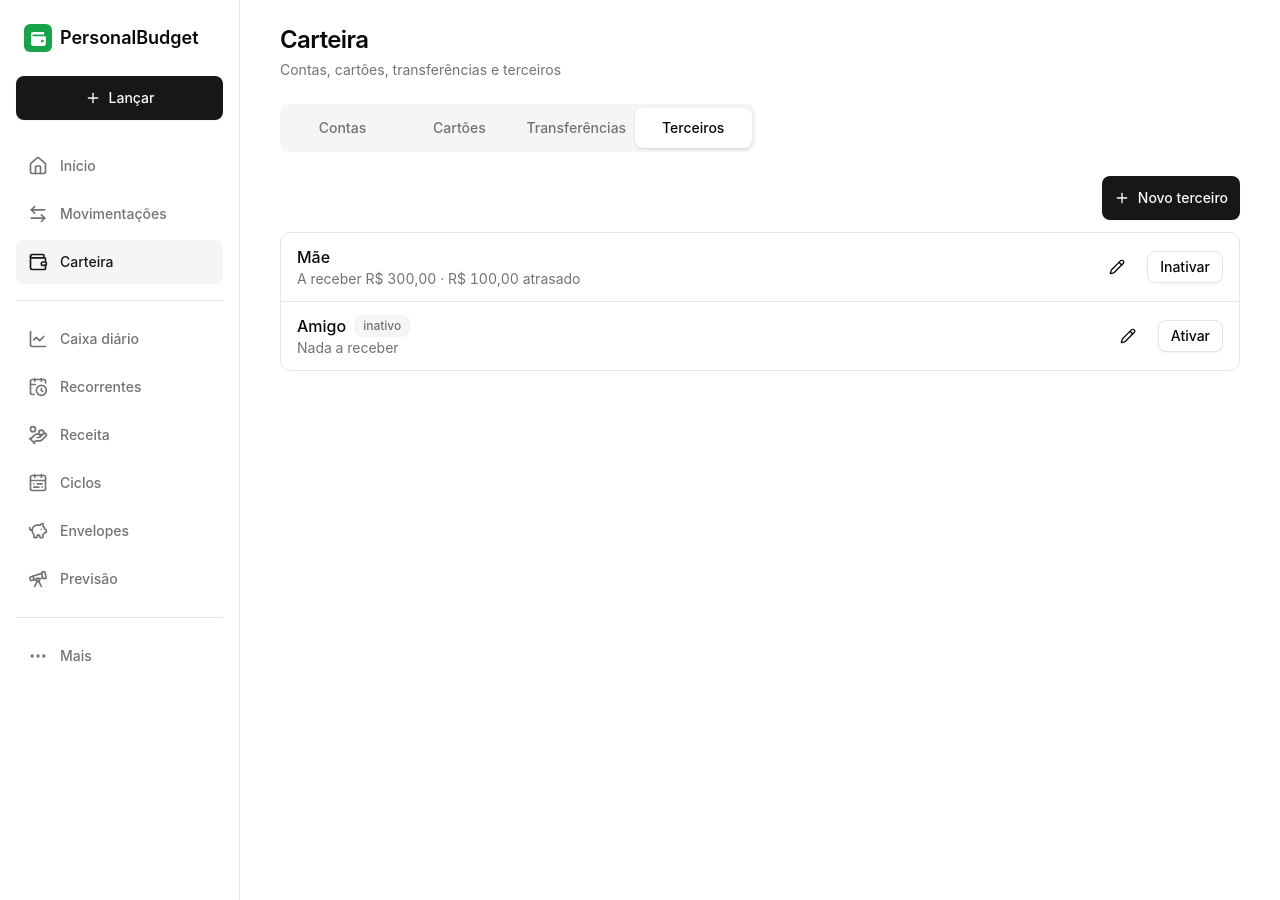
Test: Terceiros › should show the message of the back when it refuses to inactivate
What coordinates should you click on to do the following:
click the button with aria-label "Inativar Mãe"
I would click on:
 (1185, 267)
Its box is x1=1147 y1=251 x2=1223 y2=283.
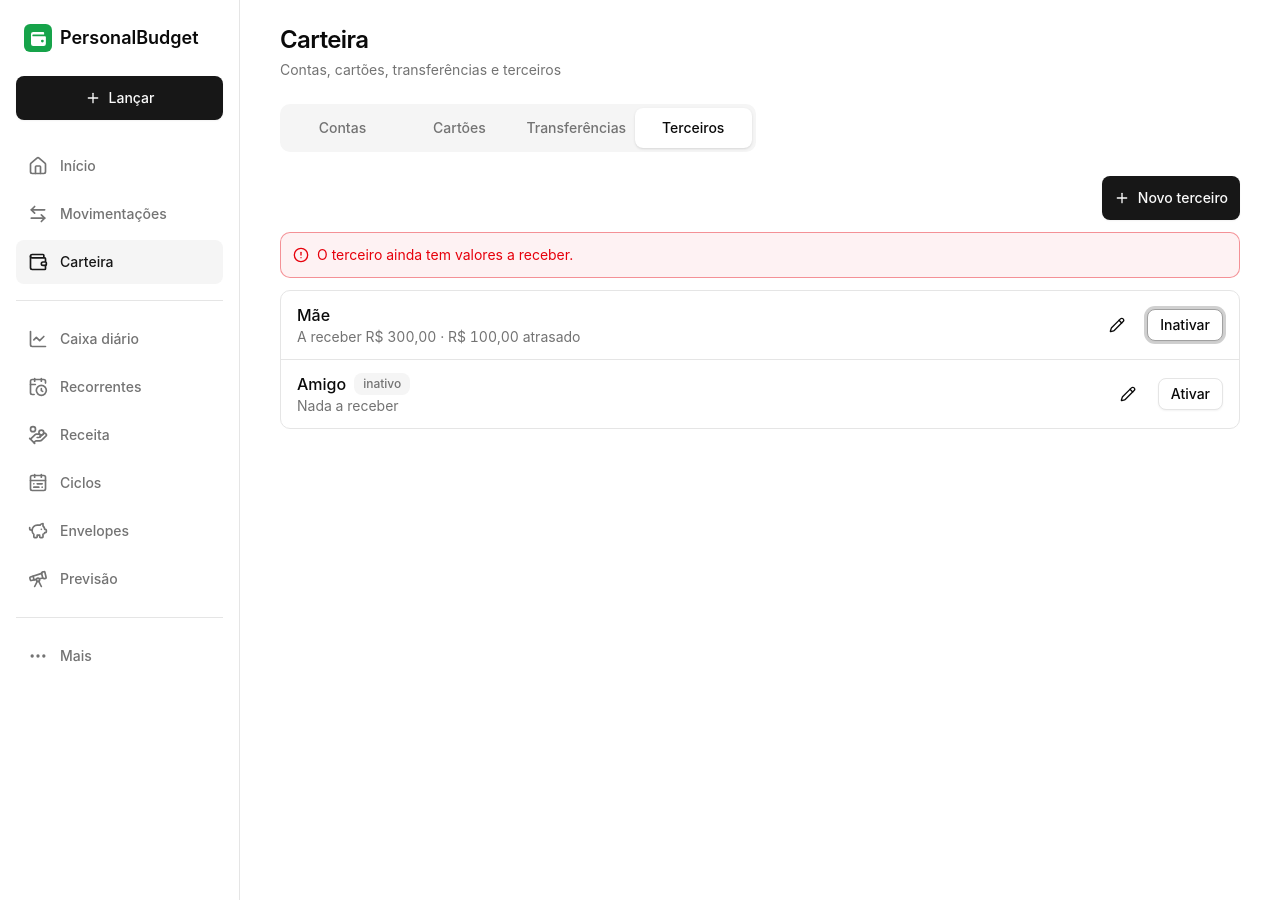
Now the text "O terceiro ainda tem valores a receber." is shown, box x1=317 y1=245 x2=573 y2=265
